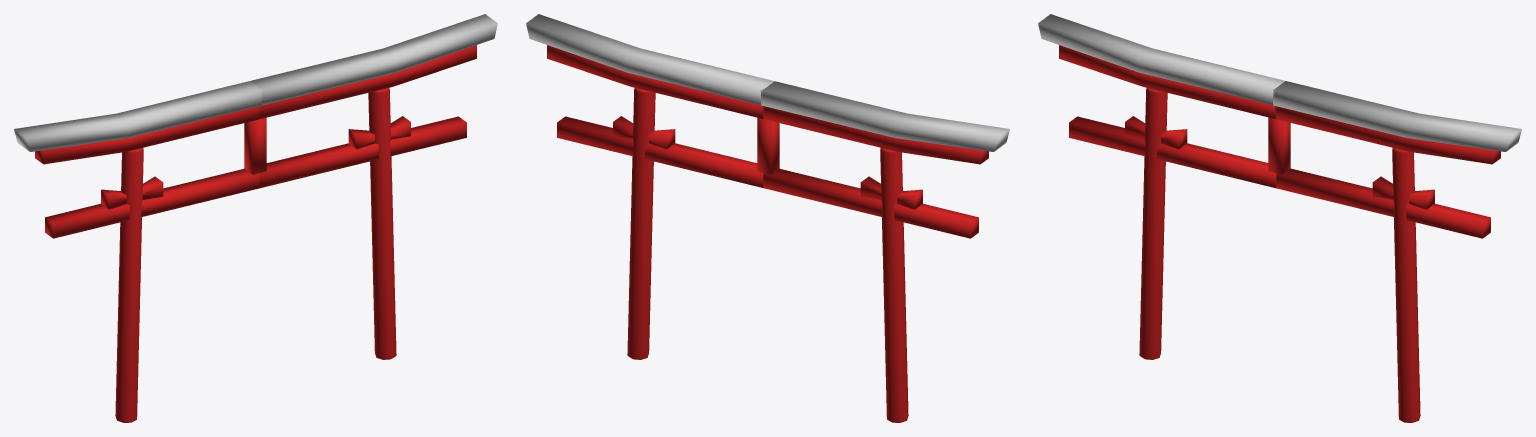
File: torii.obj
The picture shows the model from 3 angles, left to right: view 1: azimuth 30°, elevation 25°; view 2: azimuth 150°, elevation 25°; view 3: azimuth 330°, elevation 25°; orthographic projection.
Parts seen in each view (by area): view 1: 柱4, 柱１, 柱2, 柱3, 装飾, 柱5; view 2: 柱4, 柱１, 柱2, 柱3, 装飾, 柱5; view 3: 柱4, 柱１, 柱2, 柱3, 装飾, 柱5.
Part boxes in pixels (box(x1,y1,x2,y2)): 柱4: box(14, 14, 497, 151); 柱１: box(115, 88, 396, 422); 柱2: box(45, 116, 466, 238); 柱3: box(35, 45, 476, 164); 装飾: box(101, 116, 410, 209); 柱5: box(244, 117, 266, 174); 柱4: box(526, 14, 1009, 151); 柱１: box(627, 88, 908, 422); 柱2: box(557, 116, 978, 238); 柱3: box(547, 45, 988, 164); 装飾: box(613, 116, 922, 209); 柱5: box(757, 117, 779, 174); 柱4: box(1038, 14, 1521, 151); 柱１: box(1139, 88, 1420, 422); 柱2: box(1069, 116, 1490, 238); 柱3: box(1059, 45, 1500, 164); 装飾: box(1125, 116, 1434, 209); 柱5: box(1268, 117, 1290, 174).
Bounding box in the file's own units: 38.92 × 24.6 × 1.82.
